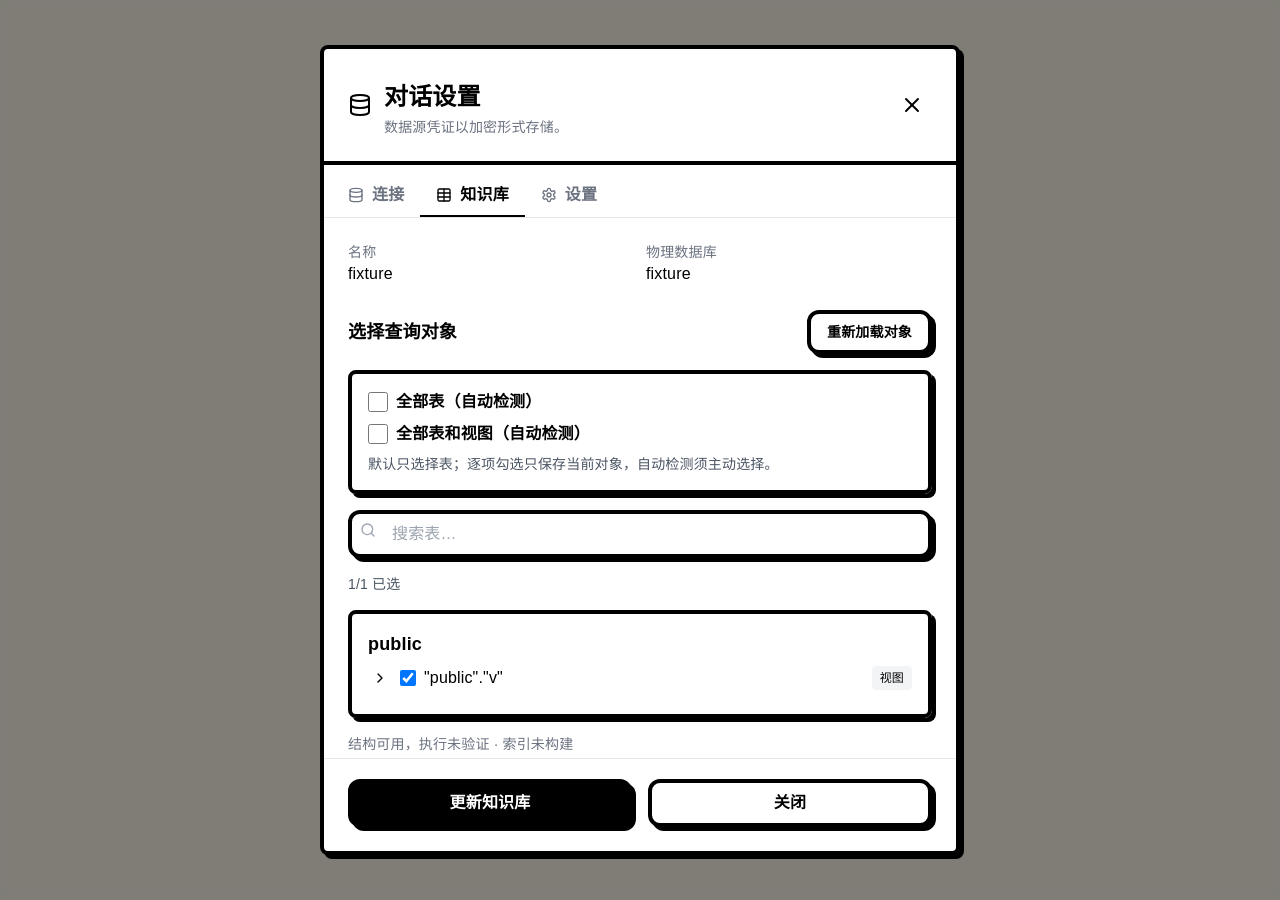
row status estimated preserves known/estimated/legacy semantics
Expected: the checkbox labelled "\"public\".\"v\"" is shown, [400,670,416,686]
Step 1. Click the button named "展开 \"public\".\"v\"" → (380, 678), box [368,666,392,690]
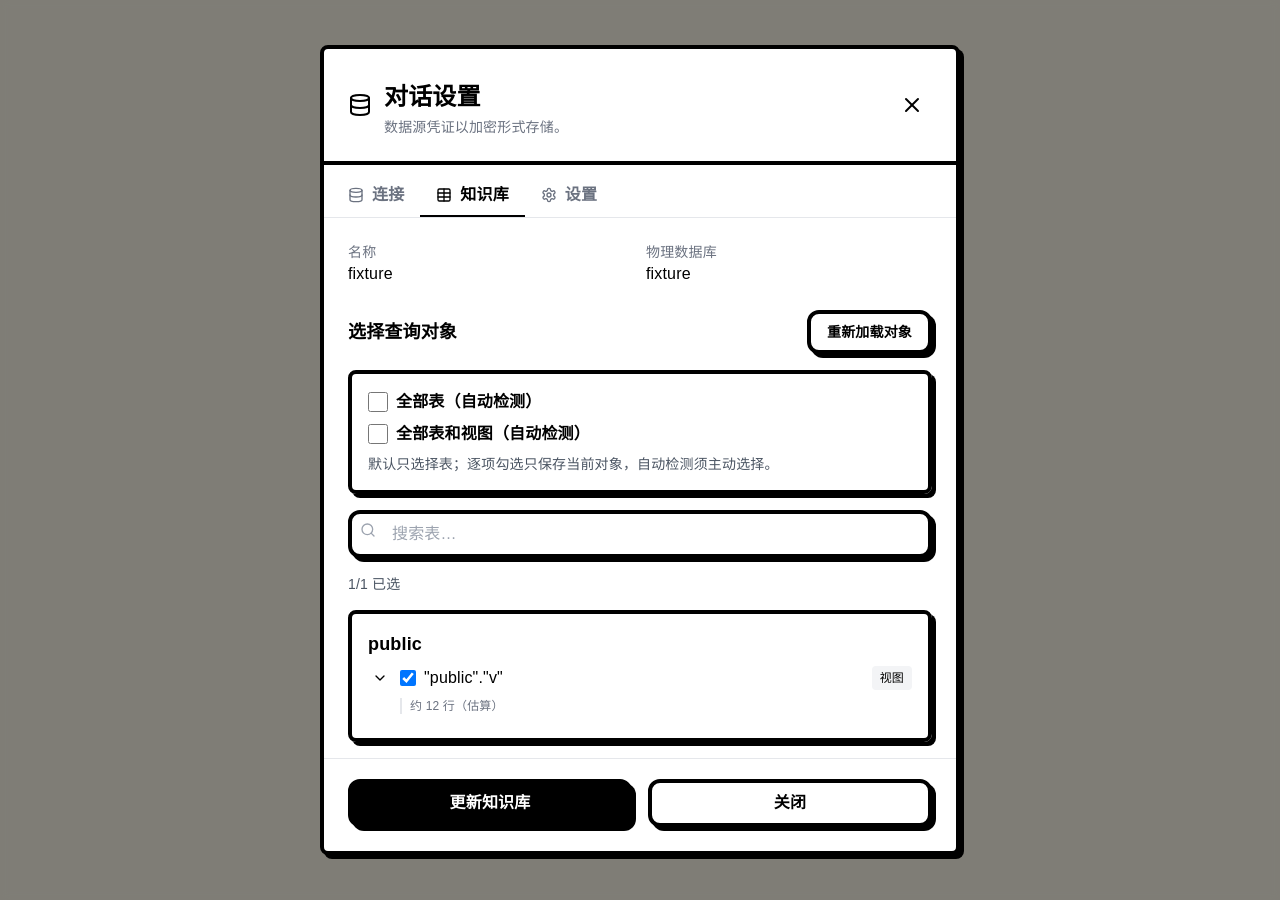
Expected: the text "约 12 行（估算）" is shown, [410,699,504,713]
